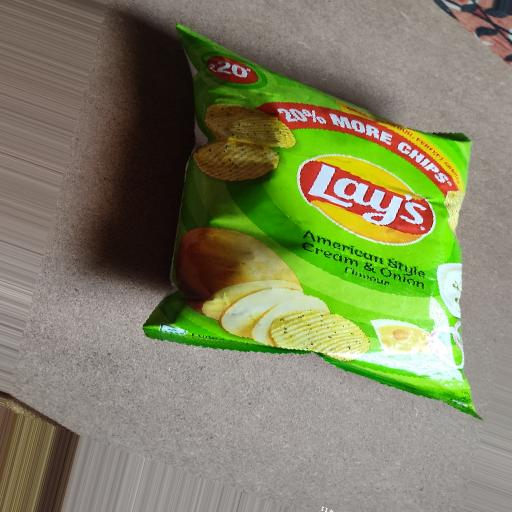Lays Green Small pack (American style cream and onion): (117, 11, 497, 439)
